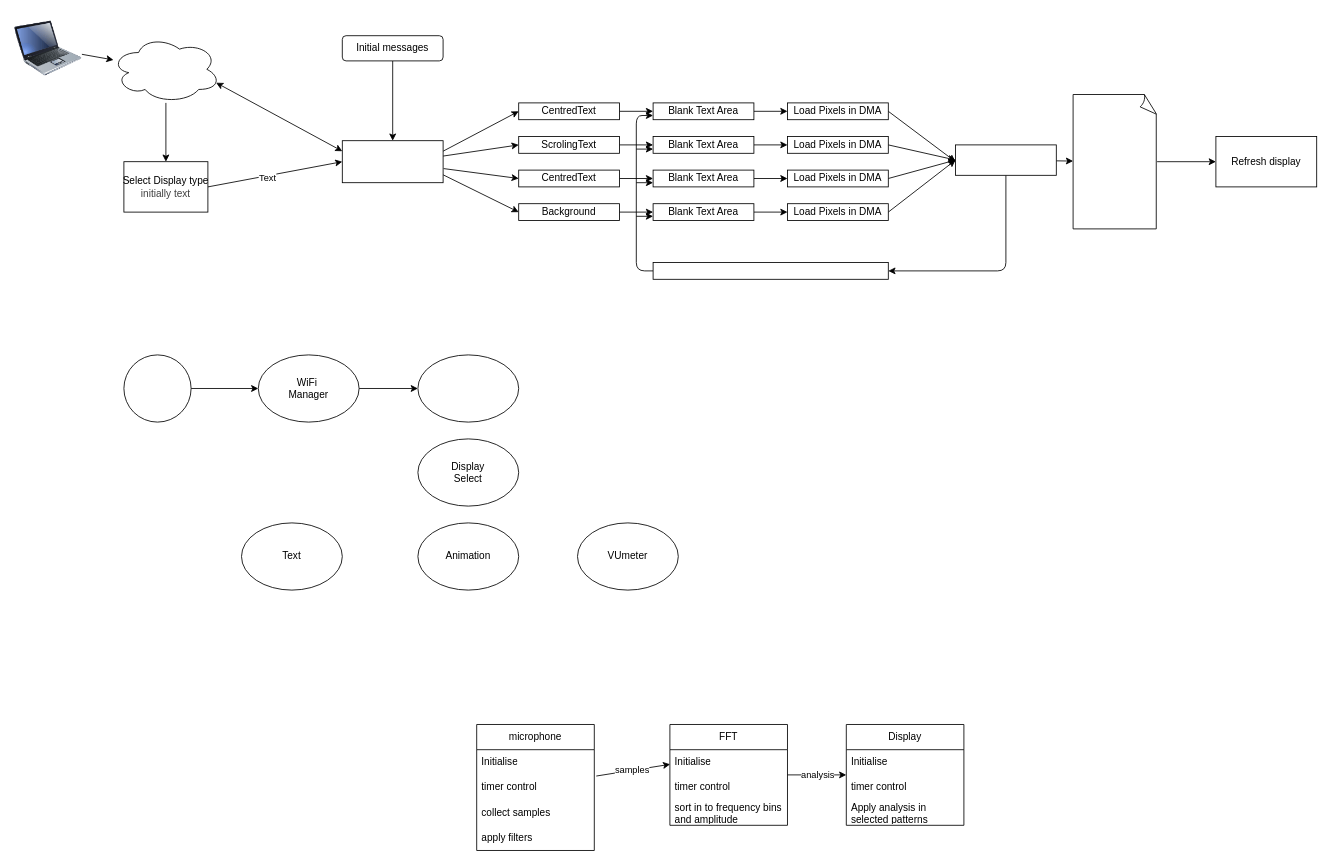
The diagram is 1331 pixels wide and 865 high, and some of its shapes have lost their labels. The centre of each missing label's shape, as x and y in pixels:
"Combine foreground & background" goes at [1005,159].
"Double Buffered DMA" goes at [1114,161].
"local WI-Fi" goes at [165,69].
"Menu" goes at [468,388].
"Set up display" goes at [392,161].
"Shift pixels & c hange colour" goes at [770,270].
"Start" goes at [157,388].
